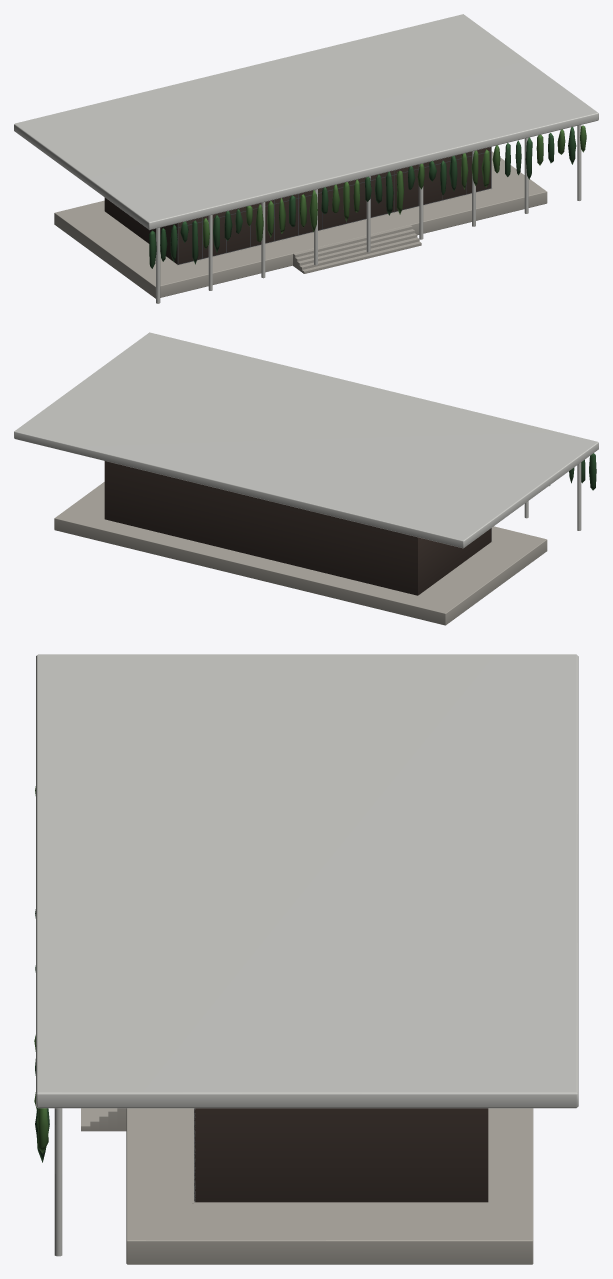
File: MuseumMIA.fbx
3 renders of one model, top to bottom at view 1: azimuth 30°, elevation 25°; view 2: azimuth 150°, elevation 25°; view 3: azimuth 270°, elevation 25°, orthographic. The views are drawn at different scales.
Parts seen in each view (by area): view 1: MuseumMIA; view 2: MuseumMIA; view 3: MuseumMIA.
Boxes of the visible parts, left/top/right/bottom form: MuseumMIA: left=14, top=14, right=598, bottom=303; MuseumMIA: left=14, top=332, right=598, bottom=625; MuseumMIA: left=34, top=654, right=578, bottom=1264.
Size of the model in its own units: 46 by 9.8 by 24.07.
